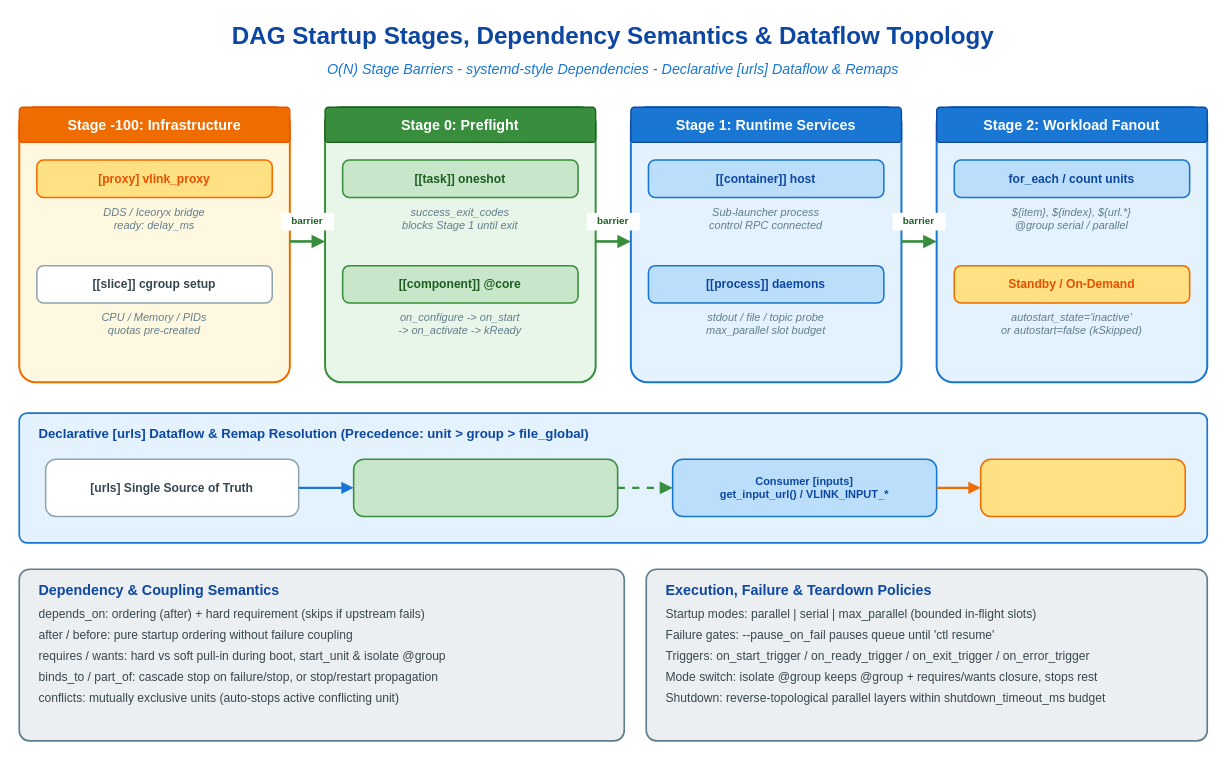
This 1228x760 diagram has some shape labels left out. Here are the shapes that lost their labels. From the top down, the box of each, then its label:
(352, 458, 618, 517): Producer [outputs] get_output_url() / VLINK_OUTPUT_*
(979, 458, 1185, 517): Static Validation validate / graph / inspect
